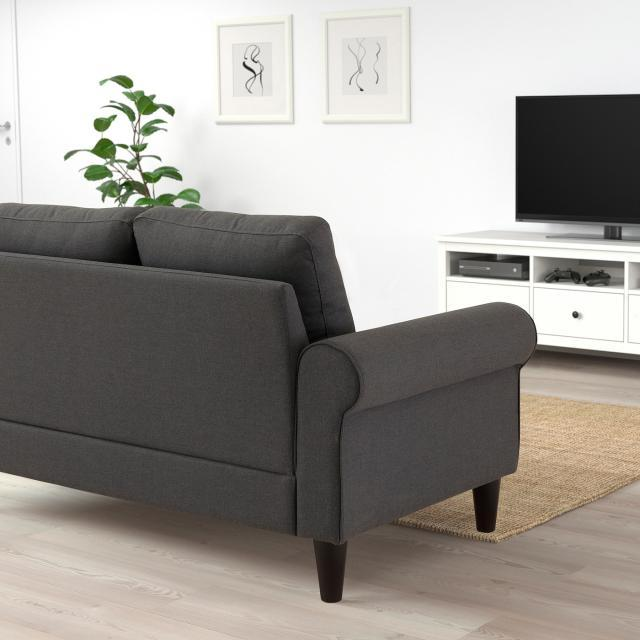Monitor: (503, 87, 640, 243)
sofa: (0, 200, 537, 603)
